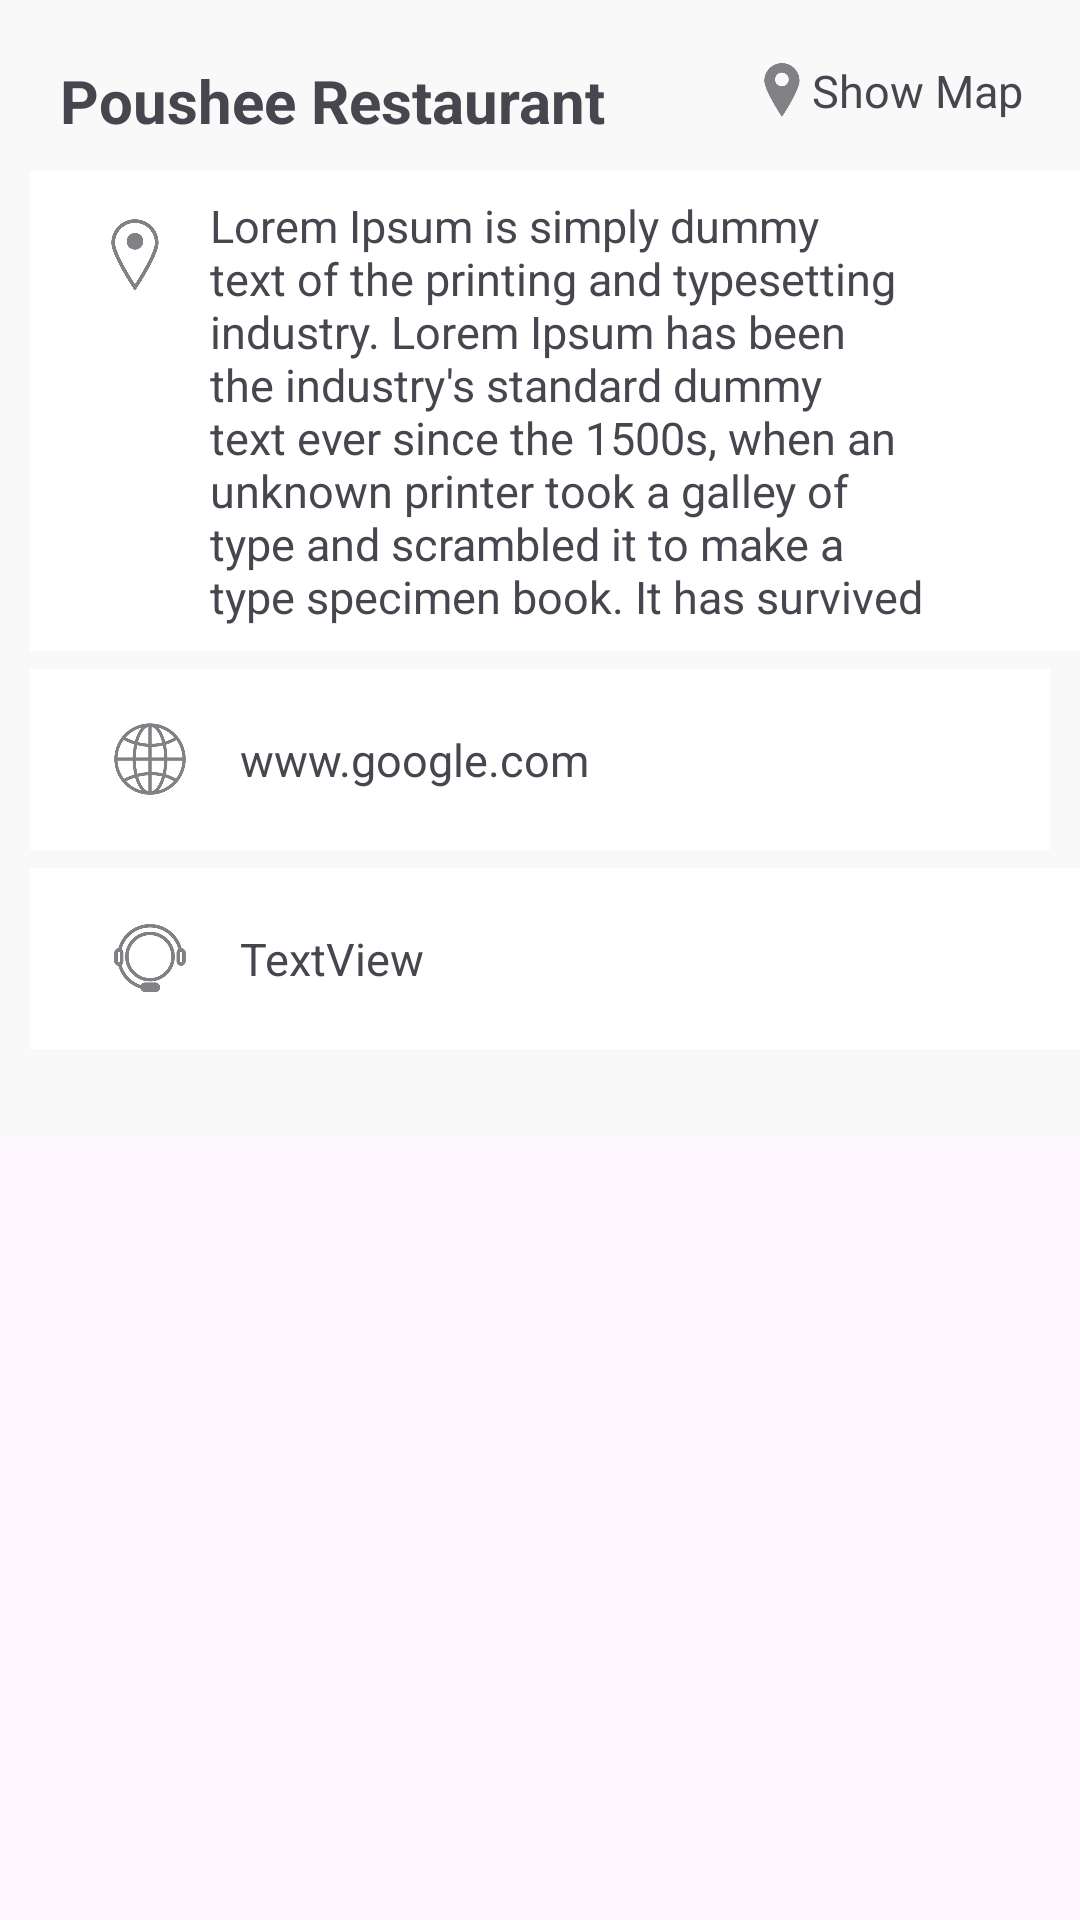

Icon click points for this 1080×1920 phone screenshot, format [x,y]:
hotlineico: [150,958]
locationico: [135,254]
maploc: [782,90]
webico: [150,759]
